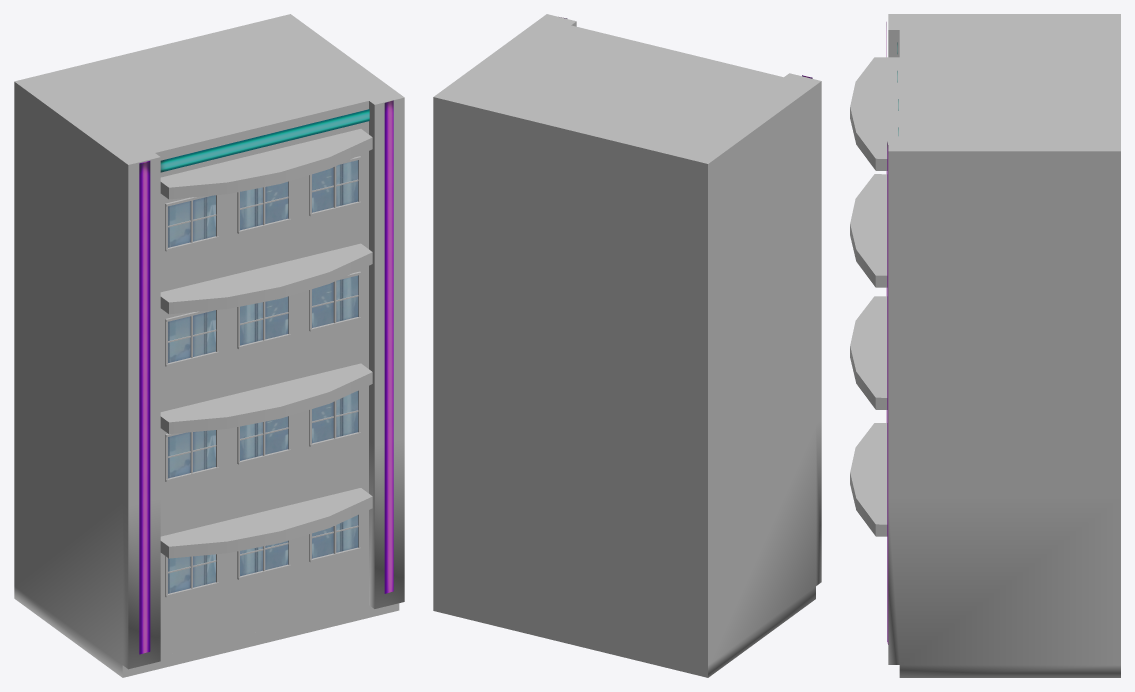
File: bldg_mall_23a.fbx
The picture shows the model from 3 angles, left to right: view 1: azimuth 30°, elevation 25°; view 2: azimuth 150°, elevation 25°; view 3: azimuth 270°, elevation 25°; orthographic projection. The views are drawn at different scales.
Visible parts, largest first — view 1: bldg_mall_23a; view 2: bldg_mall_23a; view 3: bldg_mall_23a.
Part boxes in pixels (x1,y1,x2,y2): bldg_mall_23a: [14, 14, 404, 677]; bldg_mall_23a: [433, 14, 821, 677]; bldg_mall_23a: [850, 14, 1120, 677].
Bounding box in the file's own units: 6.44 × 11.51 × 5.36.
